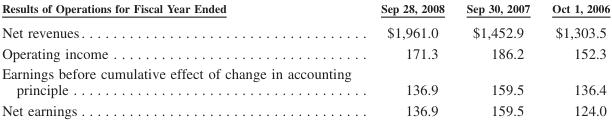table: (1, 1, 609, 117)
table column: (1, 1, 365, 117), (365, 1, 454, 117), (454, 1, 540, 117), (540, 1, 609, 117)
table column header: (1, 1, 609, 19)
table row: (1, 62, 609, 99), (1, 19, 609, 42), (1, 42, 609, 62), (1, 1, 609, 19), (1, 99, 609, 117)
